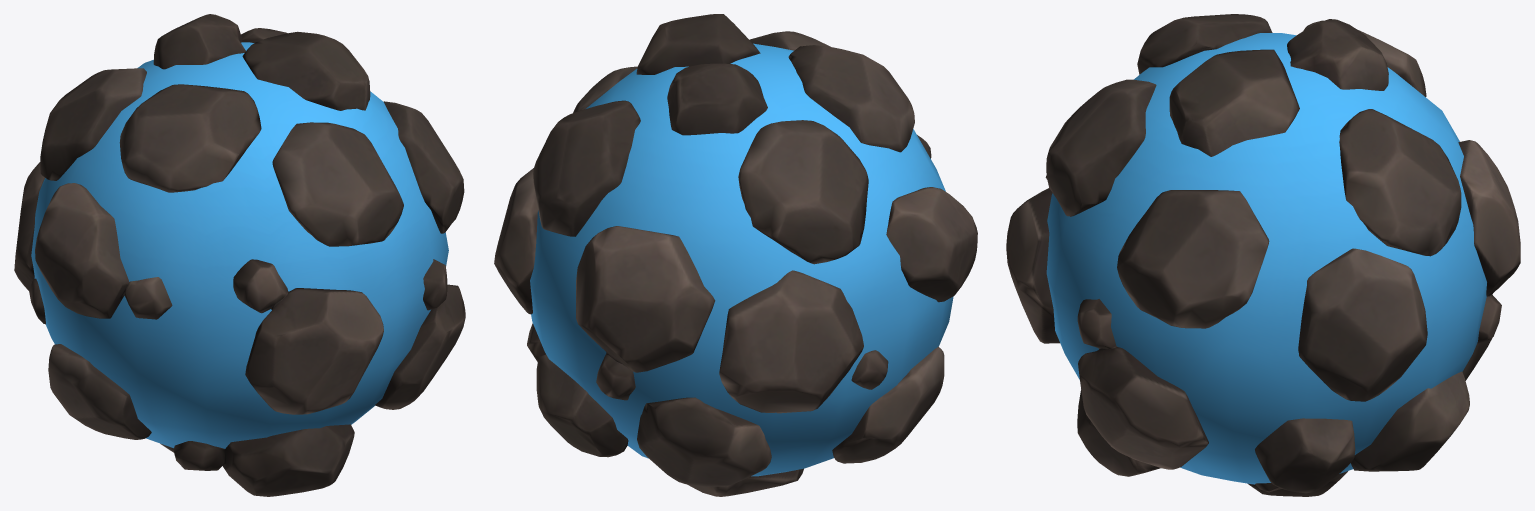
File: Planet_NuclearBall_Blue.fbx
3 renders of one model, left to right at view 1: azimuth 30°, elevation 25°; view 2: azimuth 150°, elevation 25°; view 3: azimuth 270°, elevation 25°, orthographic. The views are drawn at different scales.
Visible parts, largest first — view 1: Planet_NuclearBall_Blue; view 2: Planet_NuclearBall_Blue; view 3: Planet_NuclearBall_Blue.
Part boxes in pixels (x1,y1,x2,y2): Planet_NuclearBall_Blue: [14, 14, 465, 496]; Planet_NuclearBall_Blue: [494, 14, 977, 496]; Planet_NuclearBall_Blue: [1006, 14, 1520, 496].
Bounding box in the file's own units: 214 × 219 × 226.
